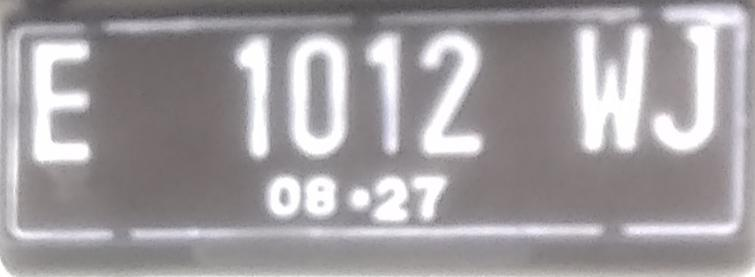0: (278, 32, 356, 160)
1: (357, 31, 409, 157), (230, 32, 279, 159)
2: (408, 31, 488, 156)
E: (24, 36, 98, 170)
J: (651, 22, 718, 153)
W: (571, 23, 651, 154)
